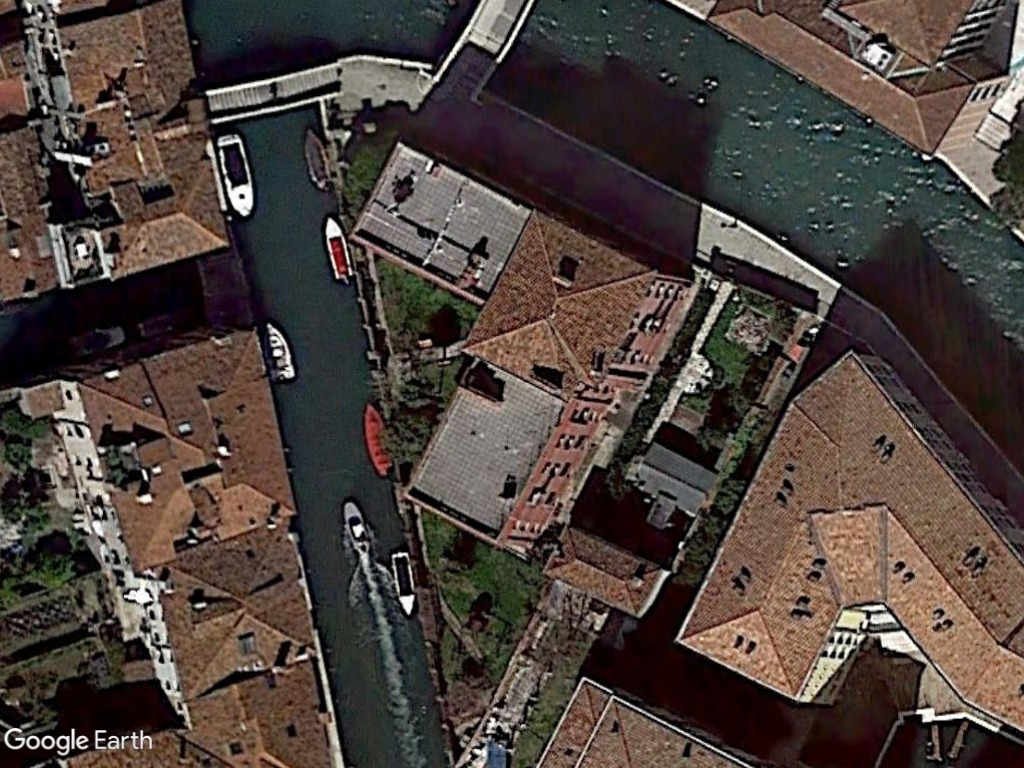boat: (214, 128, 258, 222), (261, 316, 299, 386), (323, 213, 356, 290), (385, 548, 418, 620), (300, 126, 333, 196), (341, 498, 374, 559)
